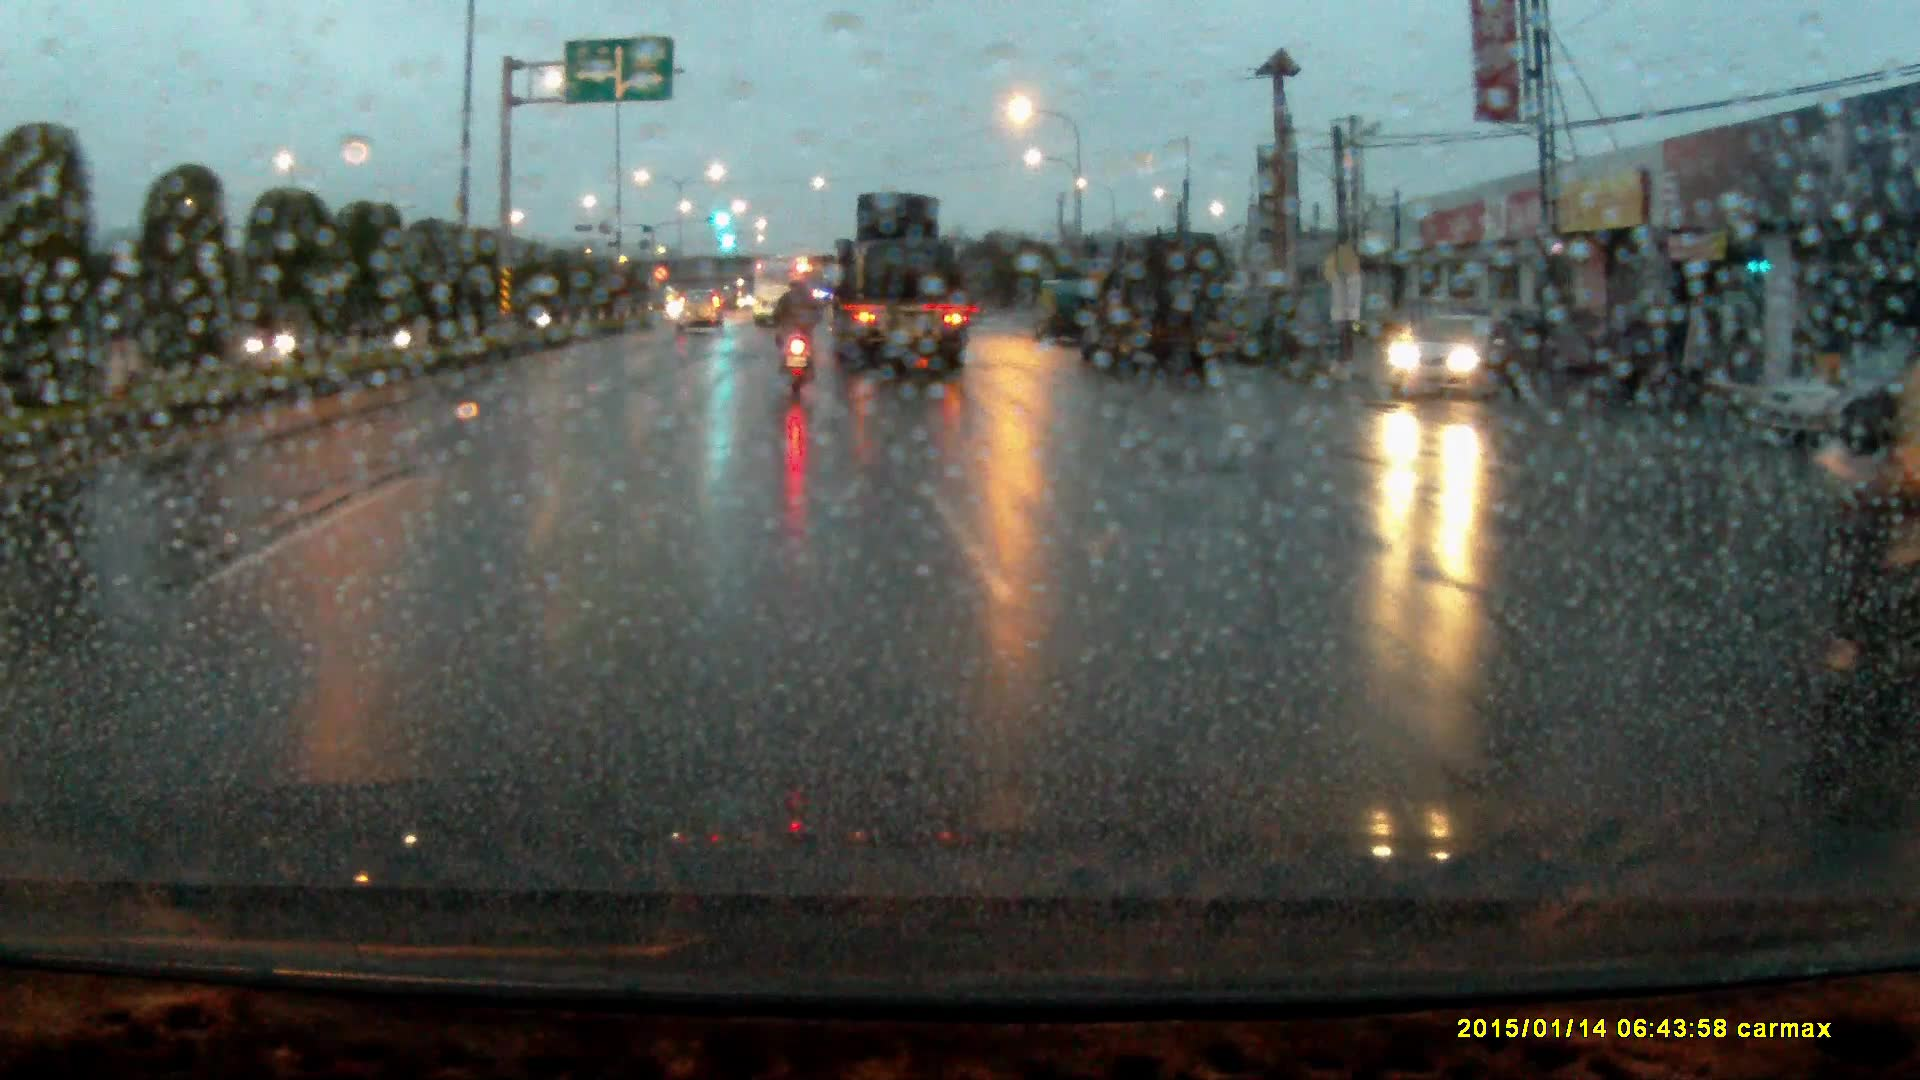rider: (1806, 249, 1920, 690), (773, 272, 830, 399)
vehicle: (829, 194, 968, 377), (1079, 229, 1230, 380), (1395, 317, 1534, 410), (753, 263, 811, 323), (1034, 283, 1090, 346), (677, 291, 726, 339)
